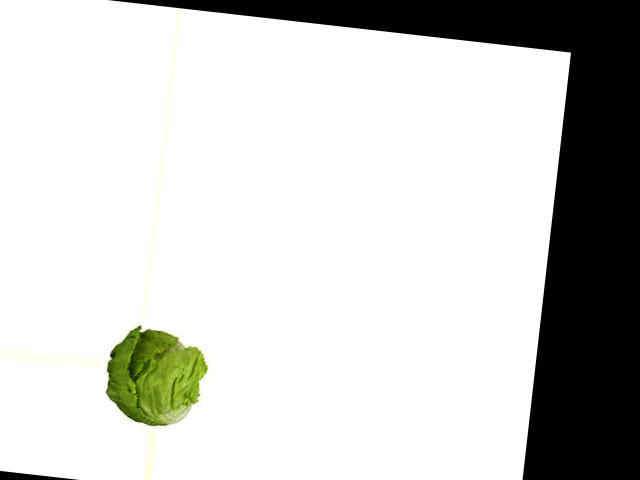lettuce: (101, 324, 207, 433)
